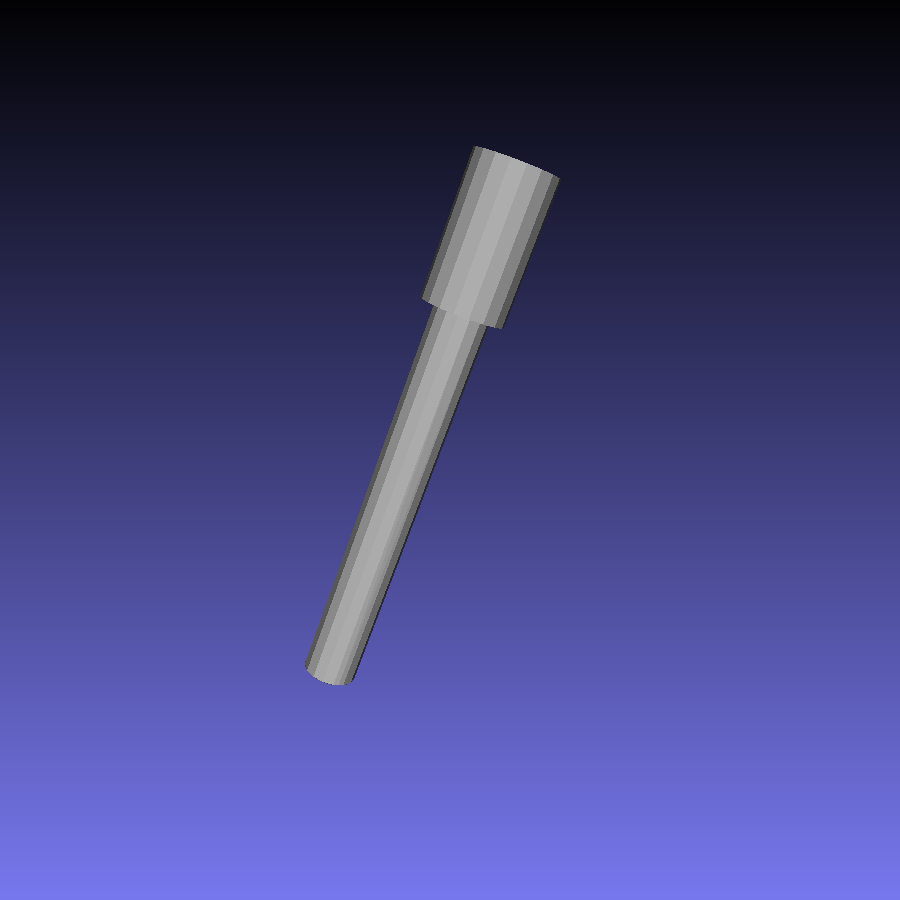cargo_g: (304, 143, 559, 686)
